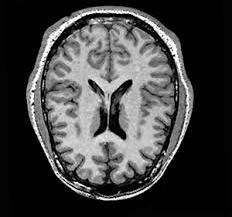Normal_Brain: (20, 14, 213, 201)
